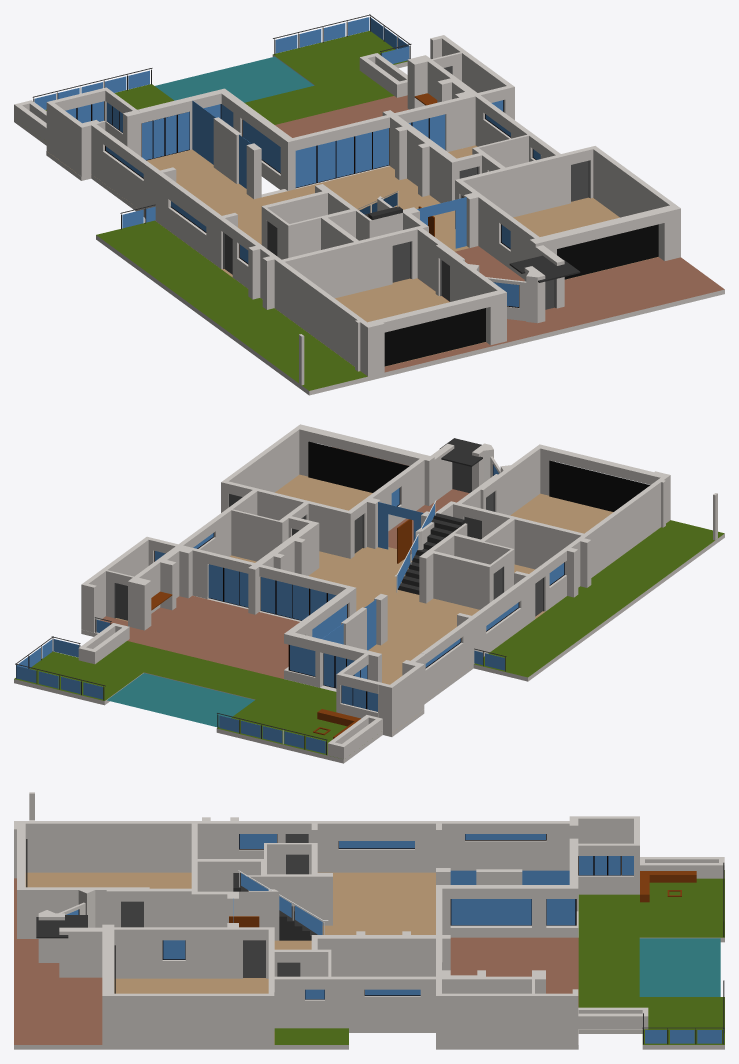
Rendered from GroundFloor.fbx.
3 renders of one model, top to bottom at view 1: azimuth 30°, elevation 25°; view 2: azimuth 150°, elevation 25°; view 3: azimuth 270°, elevation 25°, orthographic. The views are drawn at different scales.
Visible parts, largest first — view 1: Box058, Box028, Box026, Box013, Box014, Box010, Box025, PoolSurface, Box174, Box018, Box024, Box173 (+23 smaller); view 2: Box058, Box028, Box026, Box025, Box010, Box013, PoolSurface, Box014, Box173, Box174, Box018, Box011 (+18 smaller); view 3: Box058, Box026, Box028, Box018, Box011, Box013, Box016, PoolSurface, Box010, Box012, Box024, Box025 (+22 smaller).
Boxes of the visible parts, left/top/right/bottom form: Box058: left=14, top=30, right=724, bottom=395; Box028: left=237, top=184, right=457, bottom=376; Box026: left=430, top=35, right=680, bottom=261; Box013: left=293, top=101, right=459, bottom=211; Box014: left=455, top=144, right=590, bottom=228; Box010: left=379, top=254, right=526, bottom=345; Box025: left=407, top=55, right=487, bottom=151; PoolSurface: left=155, top=56, right=313, bottom=102; Box174: left=384, top=308, right=485, bottom=366; Box018: left=103, top=132, right=176, bottom=229; Box024: left=46, top=98, right=107, bottom=182; Box173: left=557, top=224, right=658, bottom=279; Box058: left=14, top=447, right=724, bottom=763; Box028: left=415, top=471, right=670, bottom=609; Box026: left=81, top=424, right=414, bottom=632; Box025: left=128, top=539, right=209, bottom=630; Box010: left=490, top=444, right=653, bottom=515; Box013: left=207, top=521, right=348, bottom=614; PoolSurface: left=107, top=673, right=254, bottom=726; Box014: left=228, top=482, right=365, bottom=558; Box173: left=308, top=441, right=409, bottom=492; Box174: left=549, top=460, right=650, bottom=511; Box018: left=421, top=609, right=486, bottom=698; Box011: left=387, top=443, right=454, bottom=528; Box058: left=14, top=868, right=724, bottom=1049; Box026: left=102, top=935, right=578, bottom=1044; Box028: left=14, top=817, right=332, bottom=940; Box018: left=415, top=821, right=546, bottom=872; Box011: left=59, top=924, right=185, bottom=978; Box013: left=311, top=888, right=450, bottom=976; Box016: left=285, top=821, right=415, bottom=872; PoolSurface: left=639, top=938, right=720, bottom=996; Box010: left=17, top=829, right=120, bottom=938; Box012: left=185, top=923, right=242, bottom=978; Box024: left=546, top=816, right=639, bottom=870; Box025: left=420, top=962, right=545, bottom=1028.
Size of the model in its own units: 893 by 151 by 1317.
